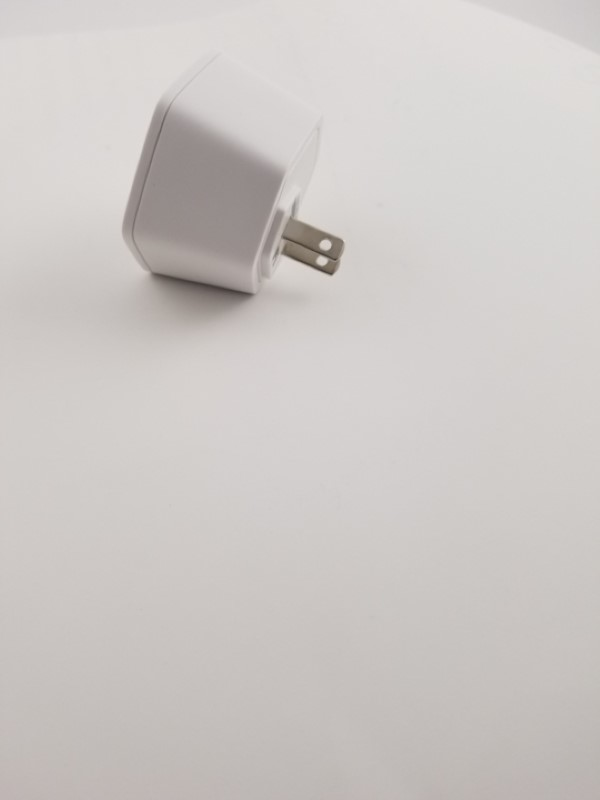pod: (116, 44, 356, 309)
